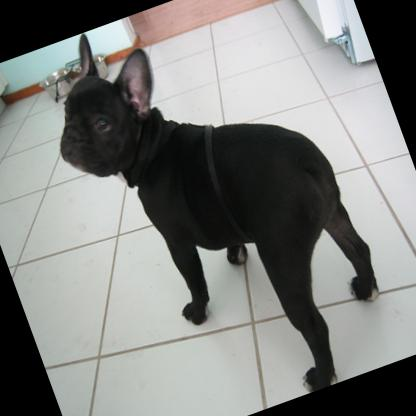French_bulldog: (23, 0, 408, 416)
